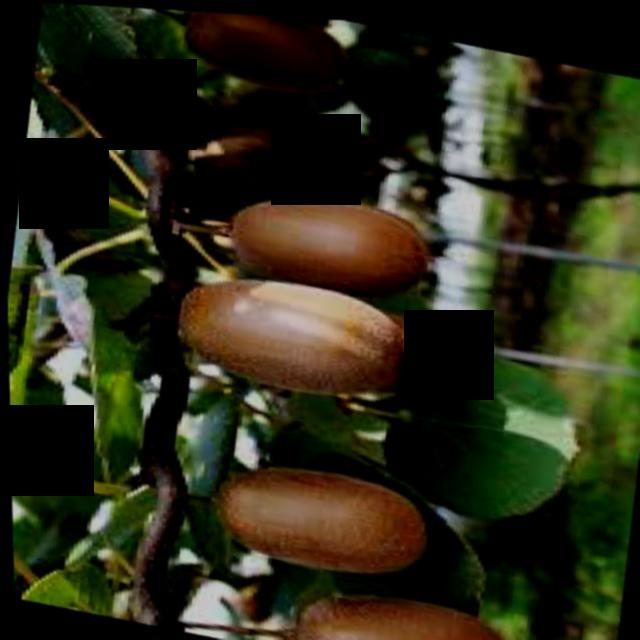kiwi: (164, 256, 413, 409), (202, 445, 436, 585), (218, 173, 431, 303), (273, 568, 524, 640), (175, 10, 358, 101)
